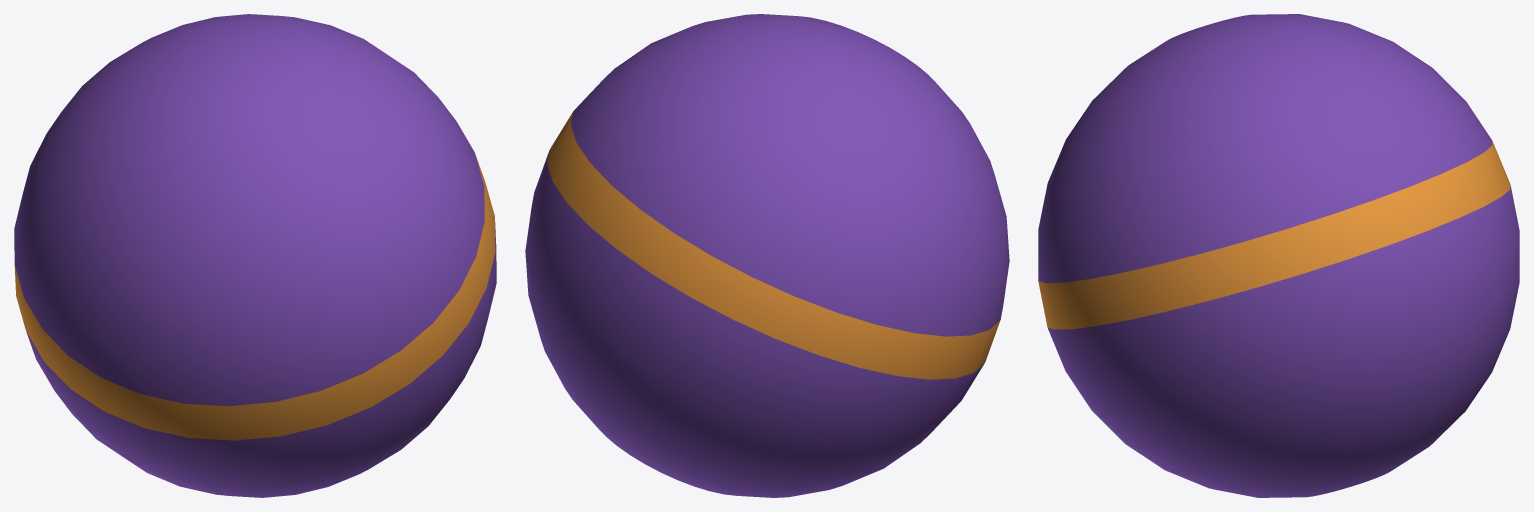
File: Ball.fbx
3 views of the same model, side by side, from view 1: azimuth 30°, elevation 25°; view 2: azimuth 150°, elevation 25°; view 3: azimuth 270°, elevation 25° (orthographic).
Parts seen in each view (by area): view 1: Ball; view 2: Ball; view 3: Ball.
Part boxes in pixels (x1,y1,x2,y2): Ball: (14,14,496,497); Ball: (525,14,1009,497); Ball: (1038,14,1519,497).
Bounding box in the file's own units: 0.9972 × 0.9989 × 0.991.
